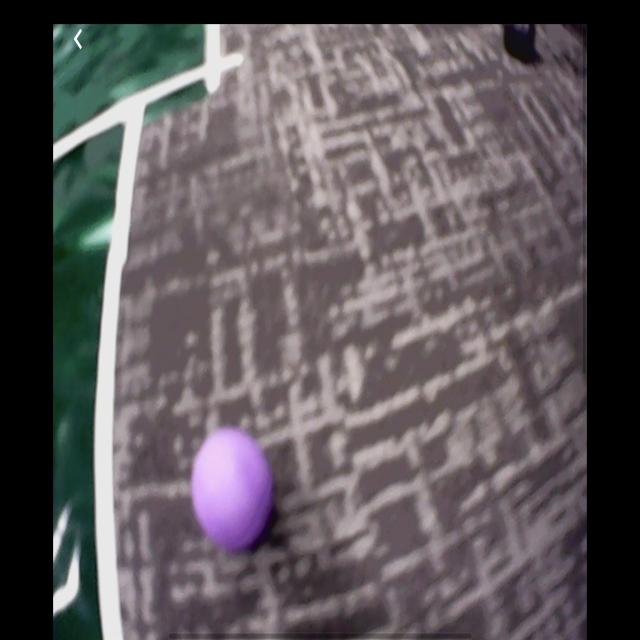ball: (190, 425, 276, 555)
